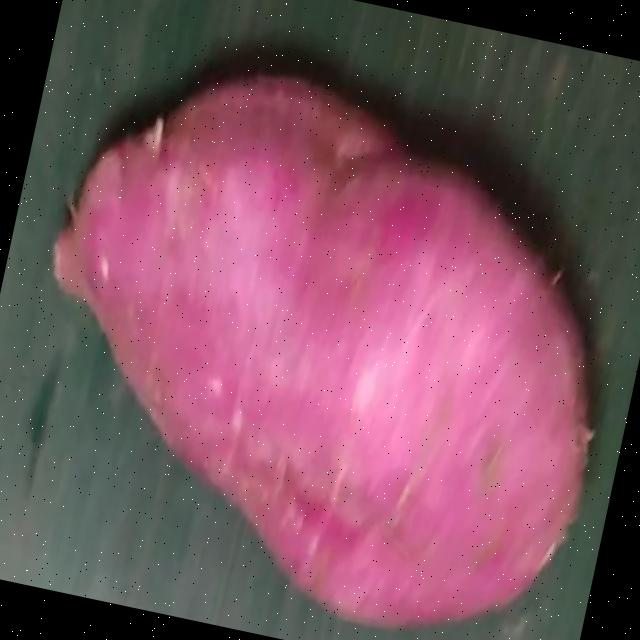Sweet Potato: (49, 67, 587, 629)
